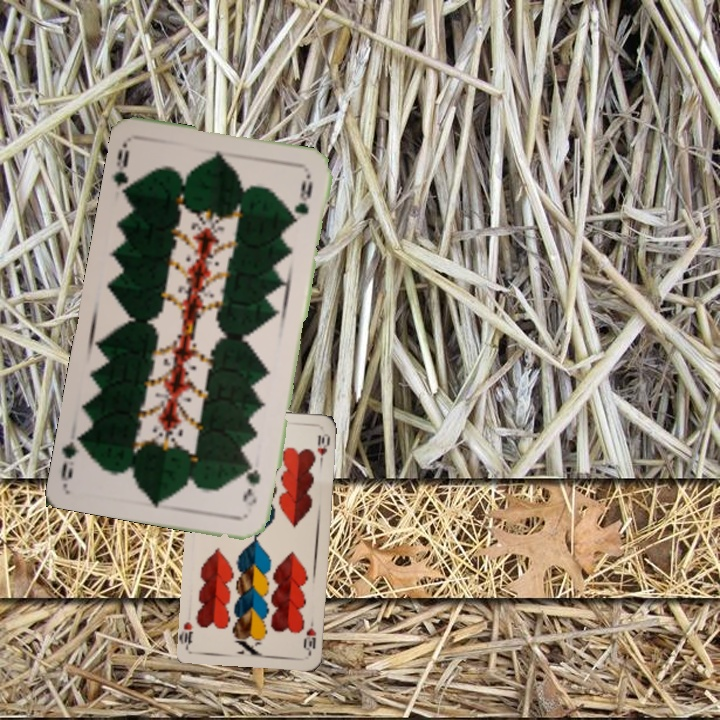G9: (109, 138, 136, 199), (240, 459, 263, 508)
H10: (300, 616, 319, 656)
